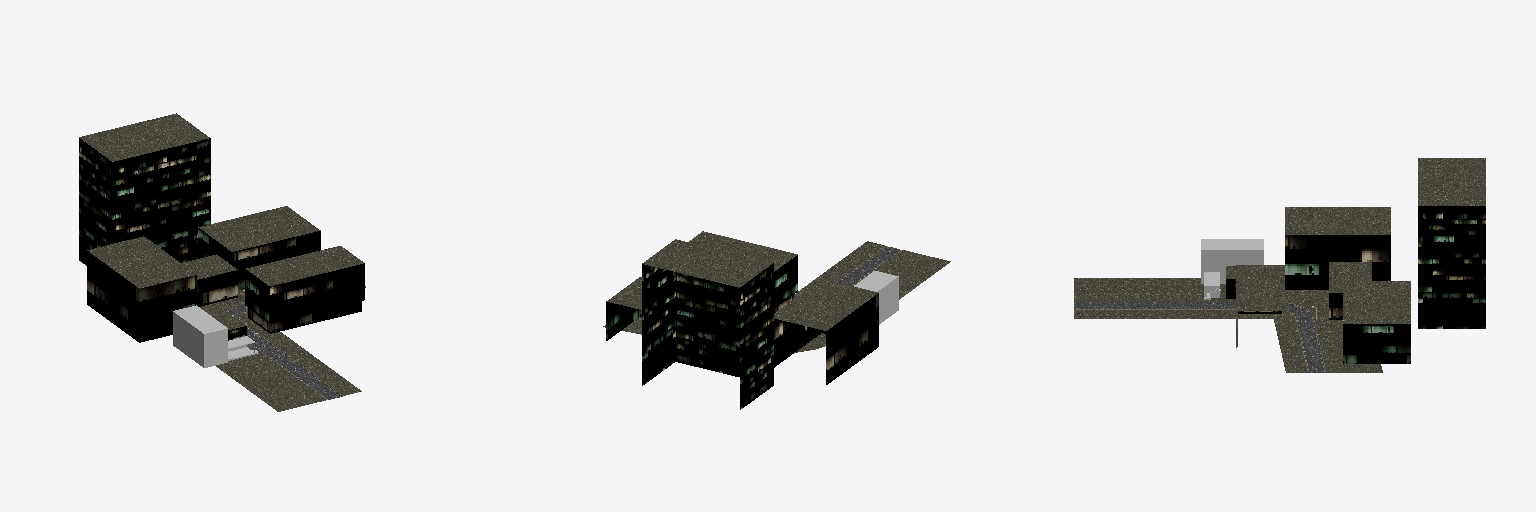
The picture shows the model from 3 angles: view 1: azimuth 30°, elevation 25°; view 2: azimuth 150°, elevation 25°; view 3: azimuth 270°, elevation 25°; orthographic projection.
Parts seen in each view (by area): view 1: Building_07_Cube.010, Building_05_Cube.008, Building_01_Cube.001, Ground_Plane, Building_06_Cube.009, Building_03_Cube.003, Building_04_Cube.004, Building_02_Cube.002, Club_Cube; view 2: Building_07_Cube.010, Building_05_Cube.008, Ground_Plane, Building_01_Cube.001, Building_06_Cube.009, Building_03_Cube.003; view 3: Building_07_Cube.010, Ground_Plane, Building_05_Cube.008, Building_06_Cube.009, Building_01_Cube.001, Building_03_Cube.003, Building_04_Cube.004.
Boxes of the visible parts, x1,y1,x2,y2 form: Building_07_Cube.010: [79, 113, 210, 265]; Building_05_Cube.008: [87, 236, 196, 342]; Building_01_Cube.001: [245, 246, 364, 333]; Ground_Plane: [200, 286, 365, 411]; Building_06_Cube.009: [198, 206, 320, 290]; Building_03_Cube.003: [173, 305, 227, 367]; Building_04_Cube.004: [181, 254, 237, 306]; Building_02_Cube.002: [208, 309, 246, 340]; Club_Cube: [228, 336, 258, 360]; Building_07_Cube.010: [642, 239, 773, 409]; Building_05_Cube.008: [774, 279, 878, 384]; Ground_Plane: [603, 241, 950, 352]; Building_01_Cube.001: [689, 231, 797, 312]; Building_06_Cube.009: [606, 277, 641, 340]; Building_03_Cube.003: [854, 271, 898, 324]; Building_07_Cube.010: [1418, 158, 1485, 328]; Ground_Plane: [1074, 278, 1382, 372]; Building_05_Cube.008: [1285, 207, 1390, 289]; Building_06_Cube.009: [1343, 281, 1410, 363]; Building_01_Cube.001: [1236, 265, 1284, 347]; Building_03_Cube.003: [1201, 239, 1263, 283]; Building_04_Cube.004: [1329, 262, 1371, 319].
Size of the model in its own units: 331 by 171 by 518.
Materials: 7 (5 with a texture image).